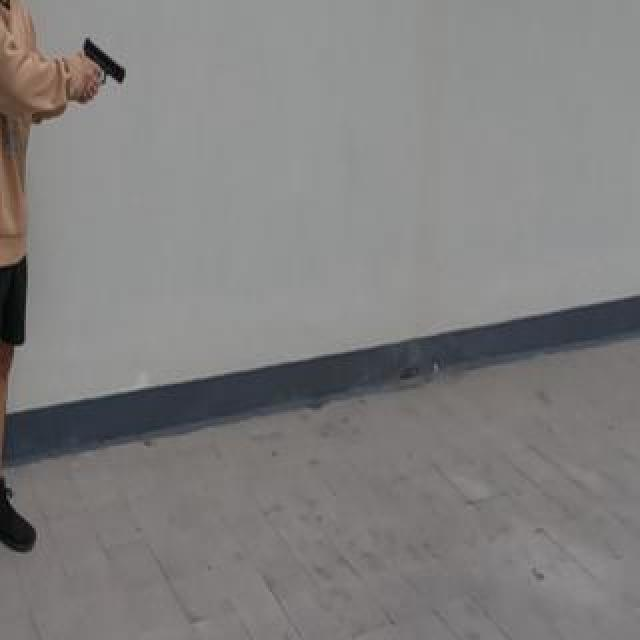Guns: (75, 26, 132, 99)
